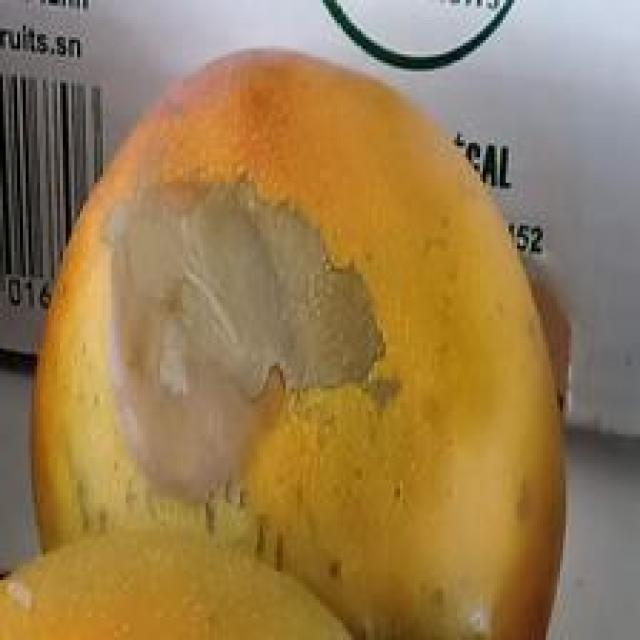Mango: (23, 52, 620, 640)
